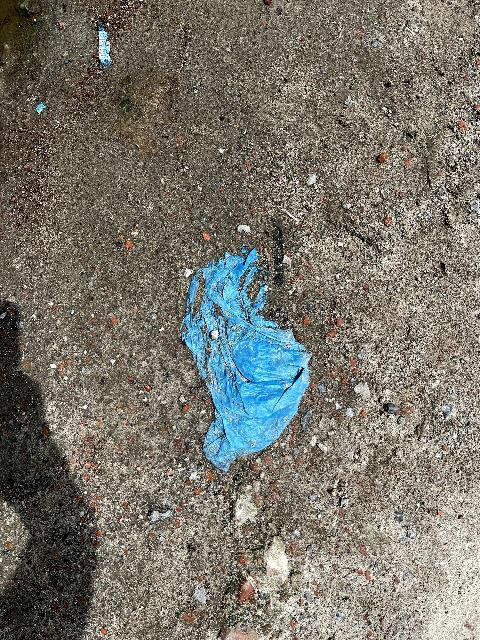polythene: (182, 223, 315, 492)
